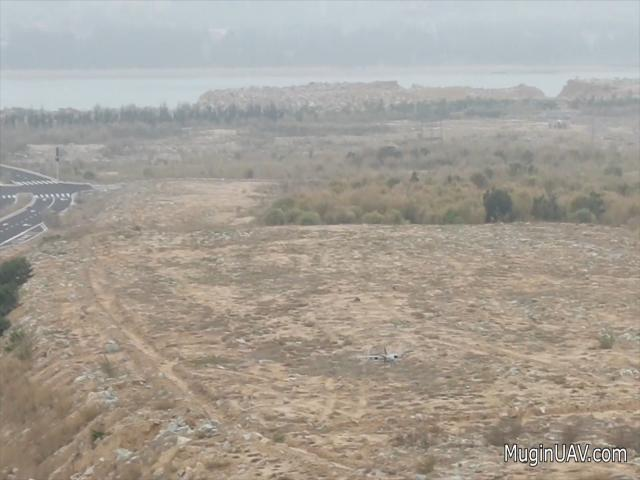plane: (365, 350, 401, 368)
